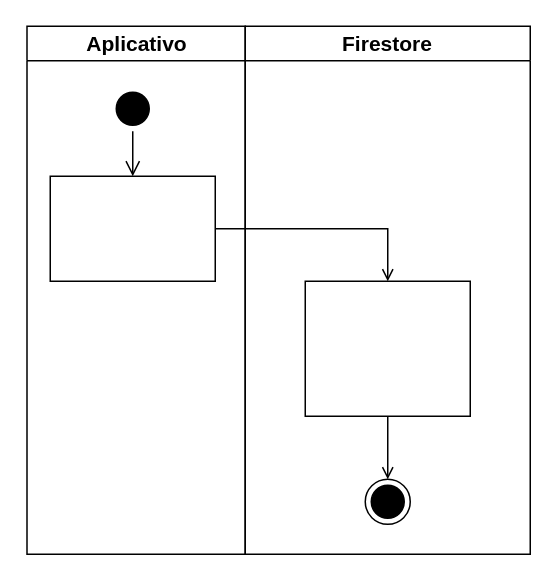
Image size: 557x581. Some labels were removed from this diagram. Here are the shapes that lost their labels. From the top down, the centre of each, then its label:
At (x=132, y=228): "Clica no botão para salvar local buscado".
At (x=387, y=348): "Salva local na subcoleção de locais visitados pelo usuário".
